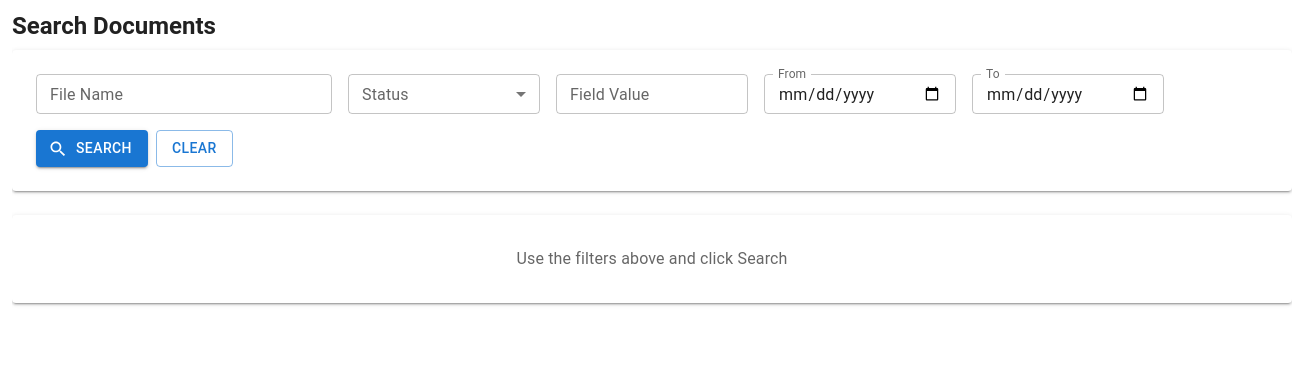
SearchPage › shows date validation error when from is after to
The image size is (1292, 367).
Step 1. Type "2026-03-10" into the date field labelled "From" → (860, 94), box [764,74,956,114]
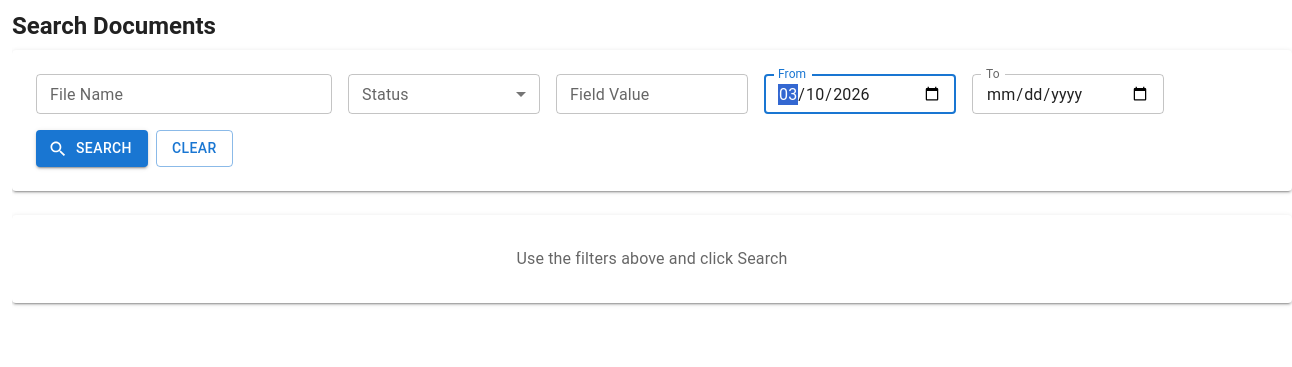
Step 2. Type "2026-03-05" into the date field labelled "To" → (1068, 94), box [972,74,1164,114]
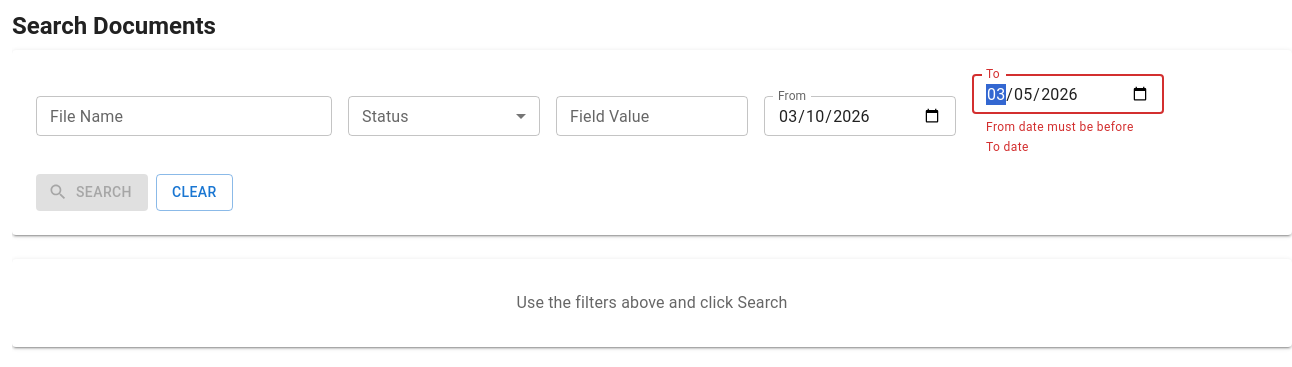
expect the text "From date must be before To date" is shown: met, box [986,118,1150,158]
